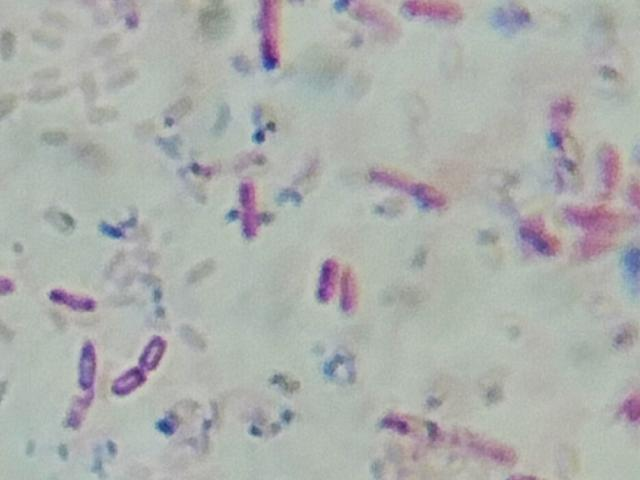E. coli: (391, 415, 503, 463), (249, 3, 296, 79), (369, 163, 442, 206), (235, 179, 265, 248), (403, 1, 473, 30), (562, 200, 638, 222), (575, 223, 614, 263), (63, 387, 100, 427), (51, 285, 92, 318), (75, 343, 102, 390), (339, 262, 362, 315), (142, 330, 168, 369), (602, 147, 623, 194), (316, 252, 335, 301), (112, 365, 140, 393), (622, 176, 640, 213)
